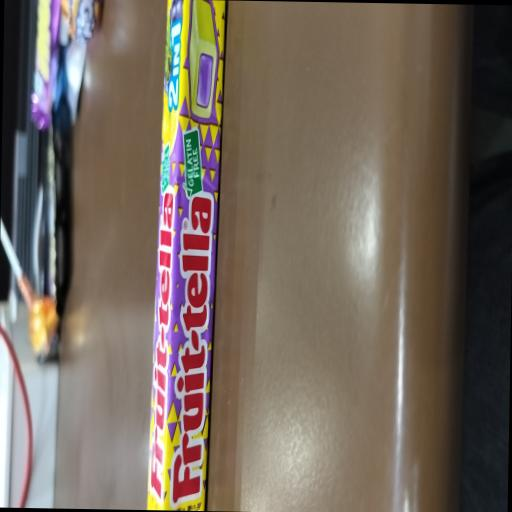Fruit-Tella: (170, 182, 218, 510), (145, 180, 178, 502)
chocolate: (143, 0, 232, 511)
